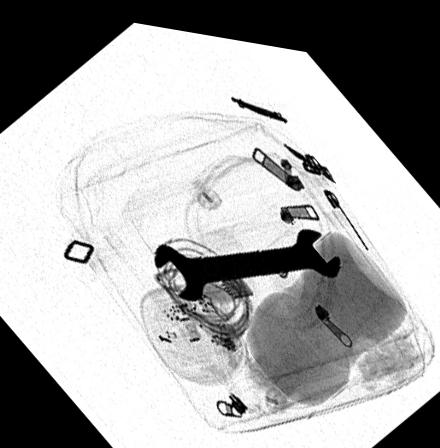Wrench: (151, 215, 345, 295)
